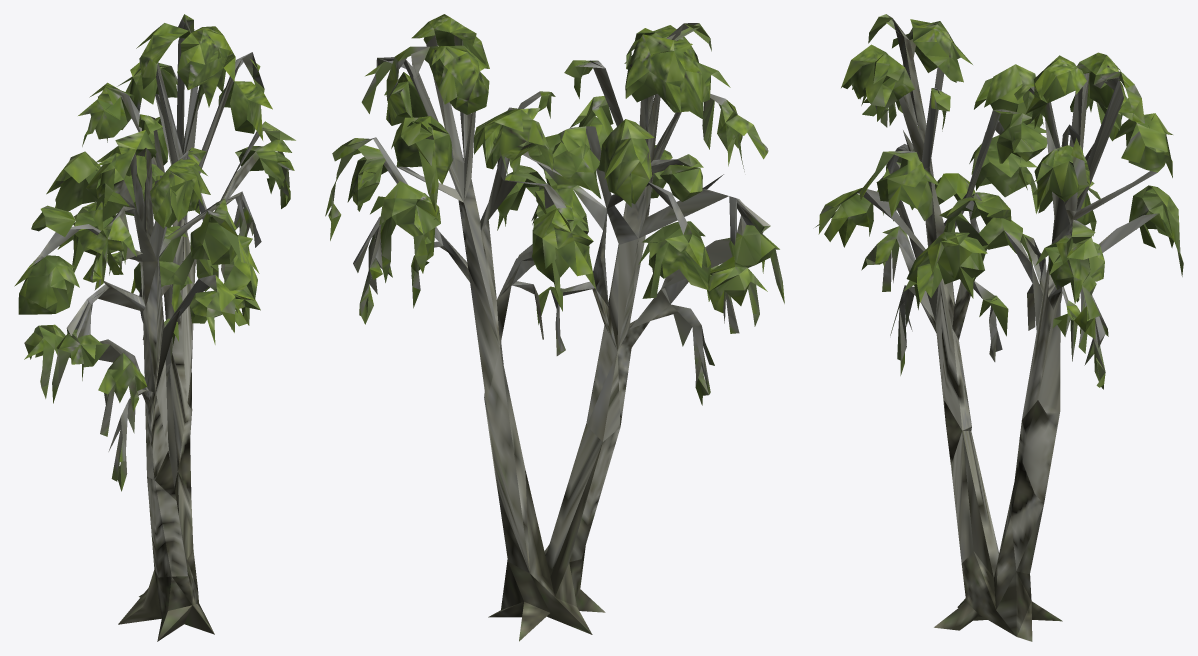
The picture shows the model from 3 angles, left to right: view 1: azimuth 30°, elevation 25°; view 2: azimuth 150°, elevation 25°; view 3: azimuth 270°, elevation 25°; orthographic projection. The views are drawn at different scales.
Parts seen in each view (by area): view 1: birch; view 2: birch; view 3: birch.
Boxes of the visible parts, x1,y1,x2,y2 form: birch: (14,14,295,641); birch: (325,14,784,641); birch: (815,14,1183,641).
Bounding box in the file's own units: 0.6158 × 0.9749 × 0.5471.
1 material, 1 textured.
